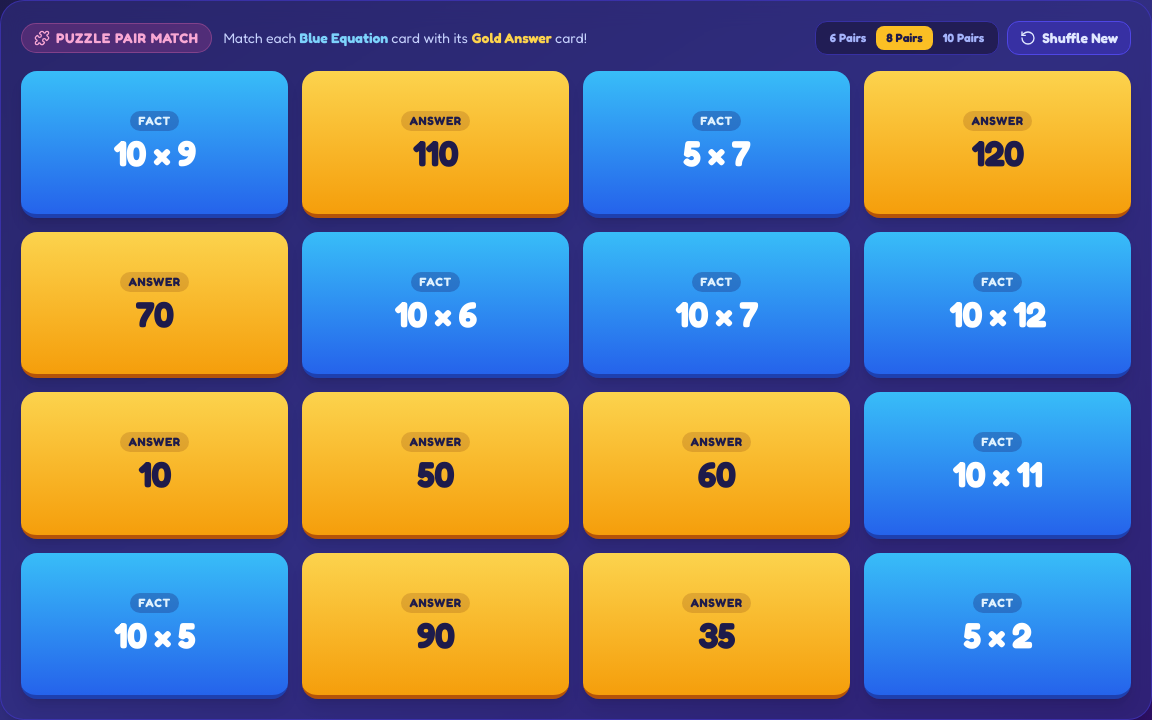
PairMatchMode › allows switching between 6, 8, and 10 pairs
Click the button "6 Pairs". click: (848, 38)
box: [820,26,876,50]
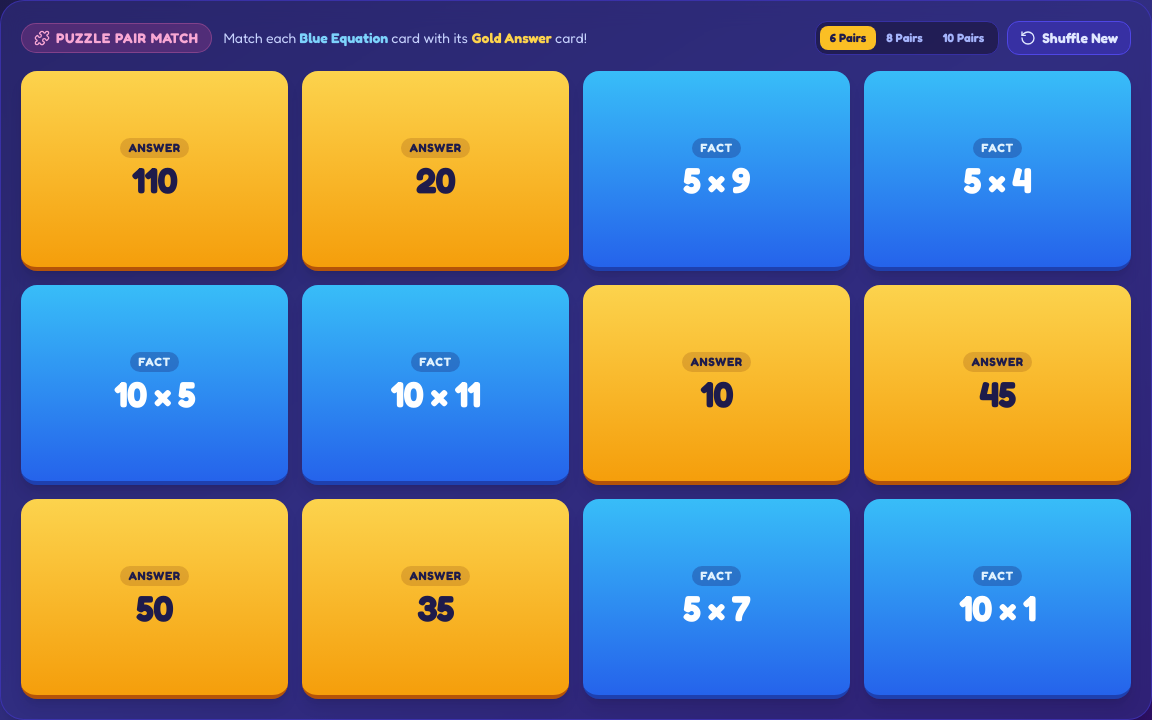
expect the text "Fact" is shown 6 times: met, box [692,138,741,158]; [973,138,1022,158]; [130,352,179,372]; [411,352,460,372]; [692,566,741,586]; [973,566,1022,586]
Click the button "10 Pairs". click: (964, 38)
box: [933,26,994,50]
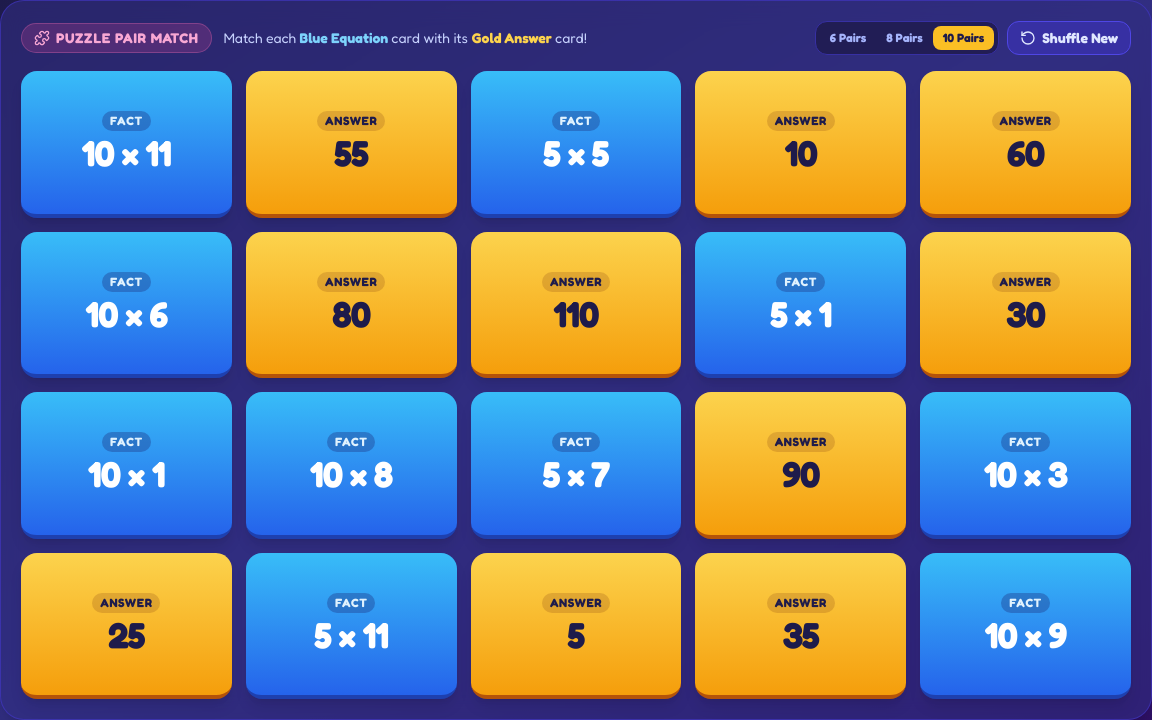
expect the text "Fact" is shown 10 times: met
